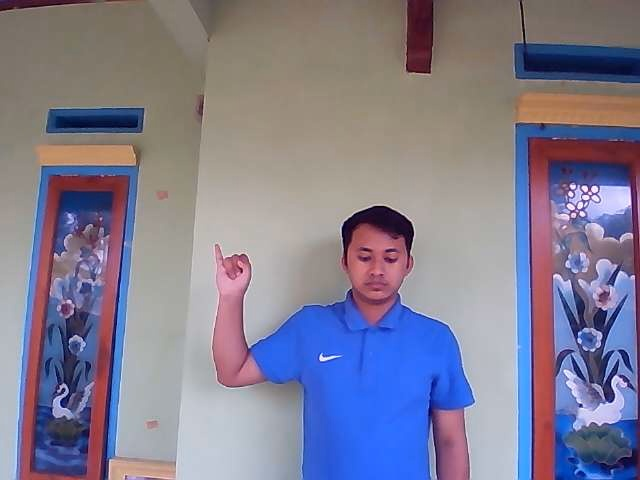I: (213, 242, 253, 295)
